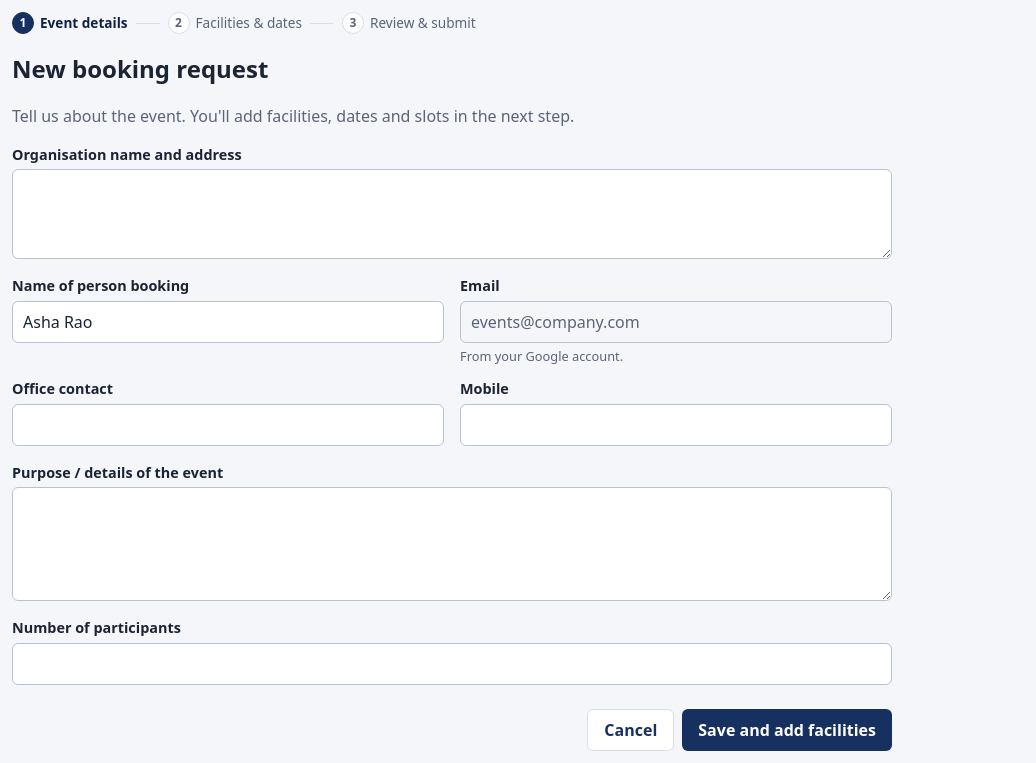
Test case: NewRequestPage › does not submit an incomplete form
What coordinates should you click on to do the following:
click the button "Save and add facilities"
I would click on:
 (787, 730)
Its box is [682,709,892,751].
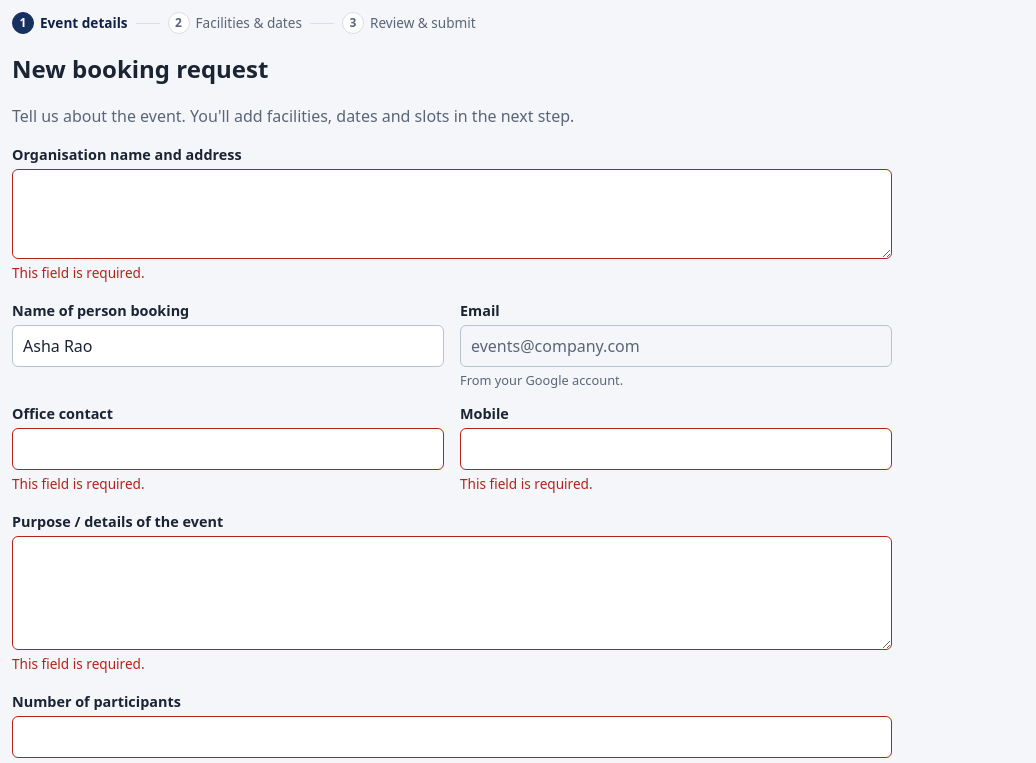
Now the text "This field is required." below "Organisation name and address" is shown, box [12,263,145,282]
